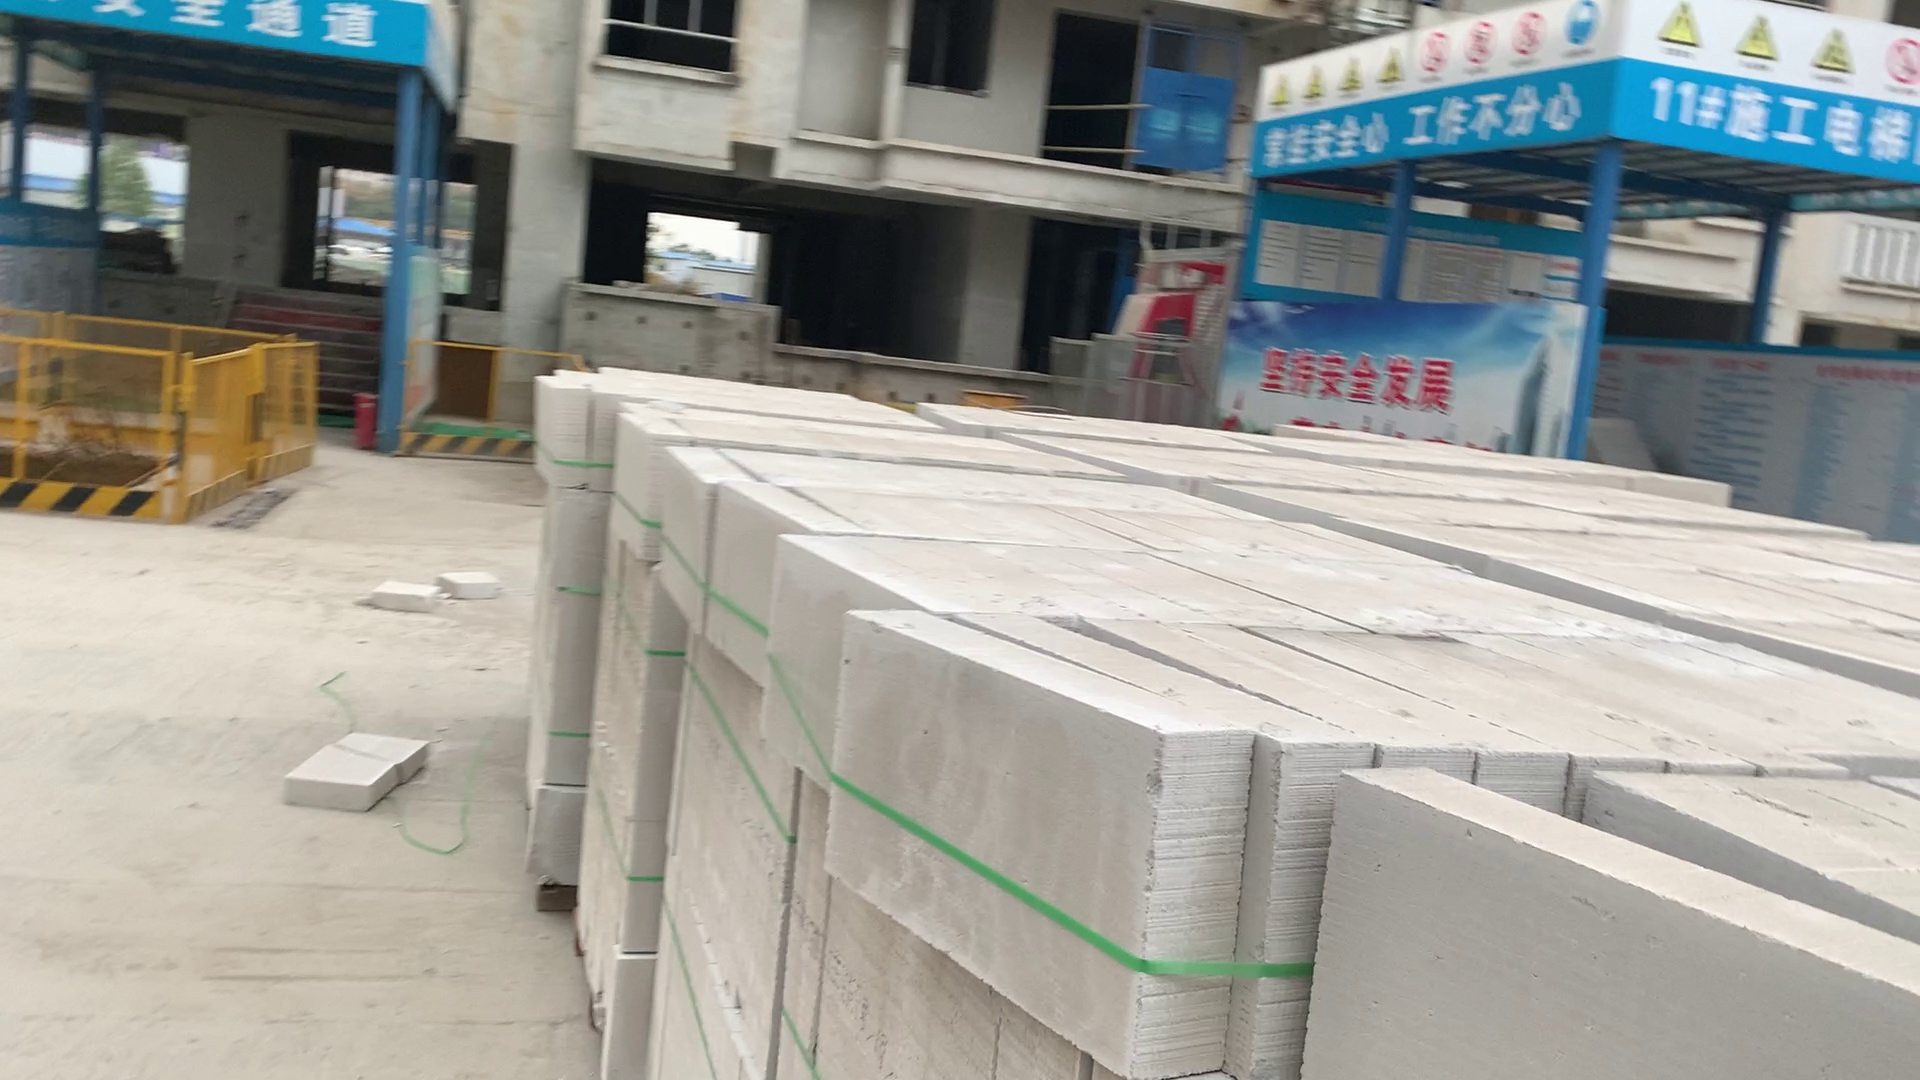brickwork: (843, 611, 1917, 775), (770, 541, 1698, 641), (1419, 535, 1920, 698), (717, 480, 1451, 564), (673, 446, 1265, 522), (615, 404, 1116, 477), (1026, 430, 1495, 500), (1204, 477, 1695, 538), (547, 353, 930, 426), (923, 400, 1273, 454), (1287, 433, 1563, 479)
